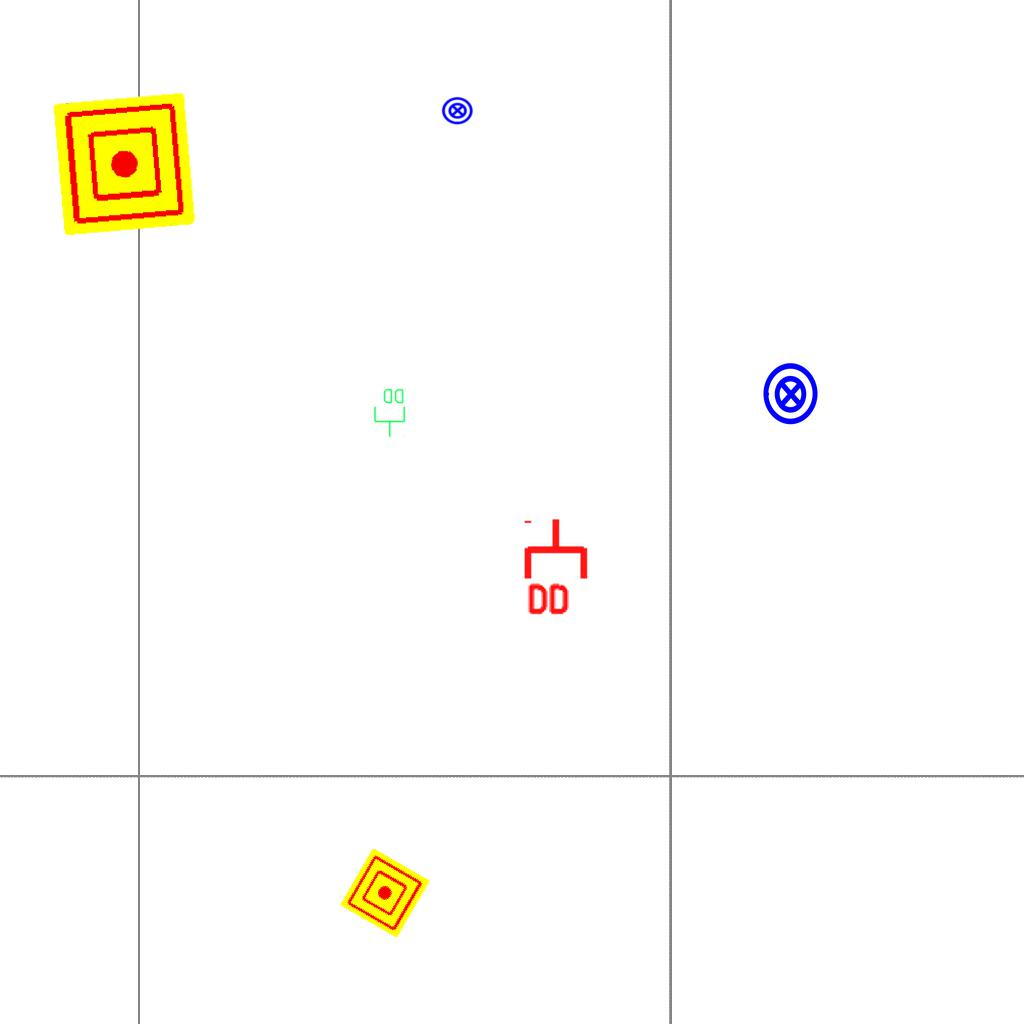Datenanschluss_zweifach: (523, 516, 592, 619), (373, 387, 407, 438)
NAM-Nichtautomatischer_Melder: (52, 92, 196, 236), (339, 847, 431, 939)
Taster_beleuchtet: (758, 361, 824, 427), (441, 94, 474, 127)
